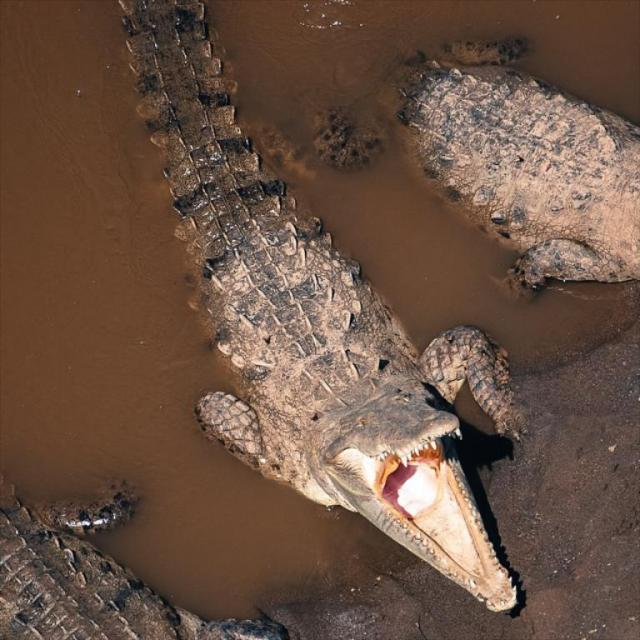crocodile: (103, 0, 533, 617)
